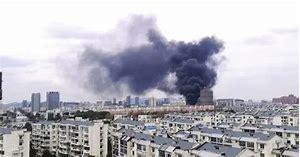smoke: (96, 32, 223, 102)
